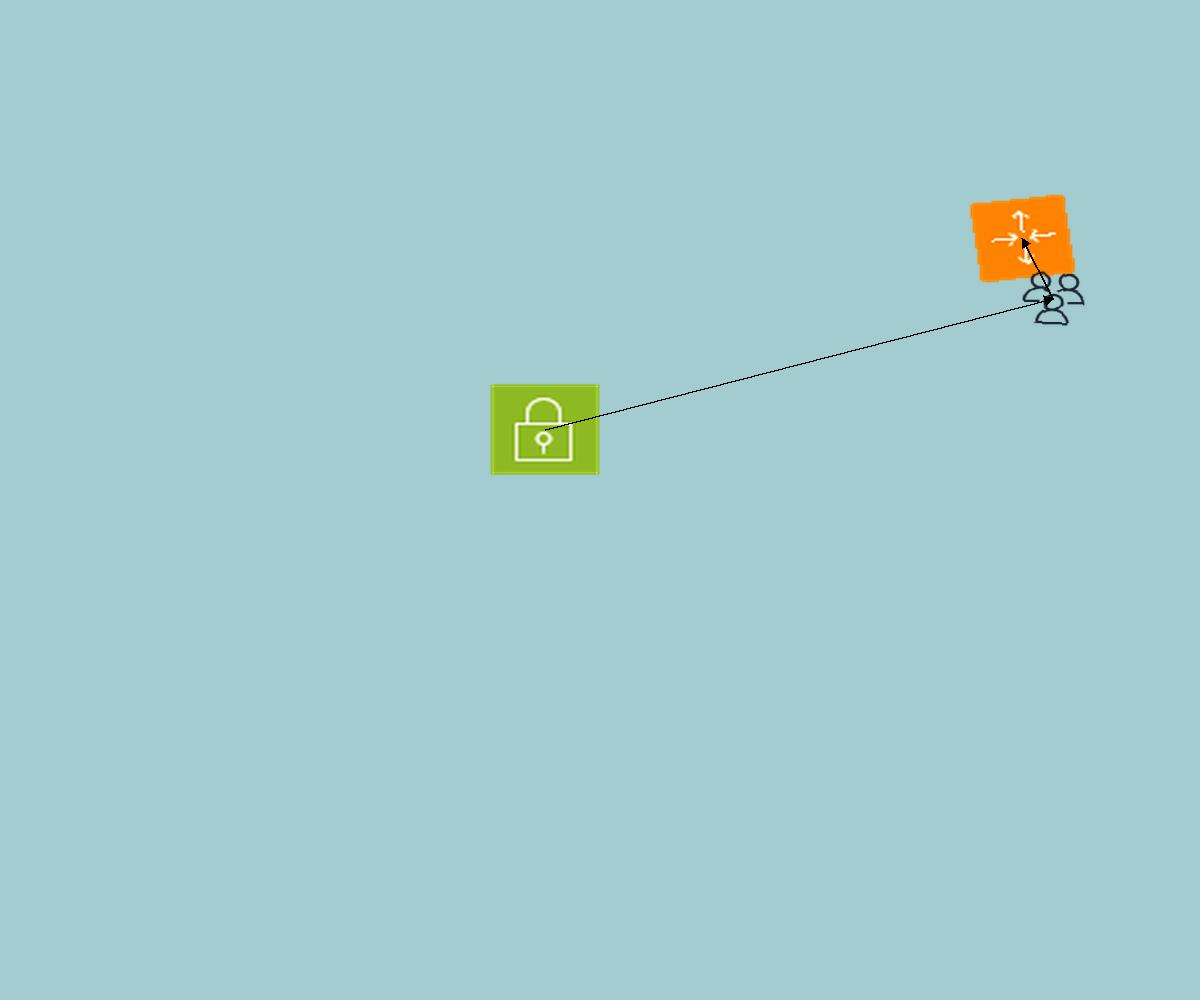AWS-Public-subnet: (488, 382, 602, 477)
AWS-Res_Users: (1017, 268, 1090, 329)
AWS-Scaling-group: (968, 193, 1077, 284)
